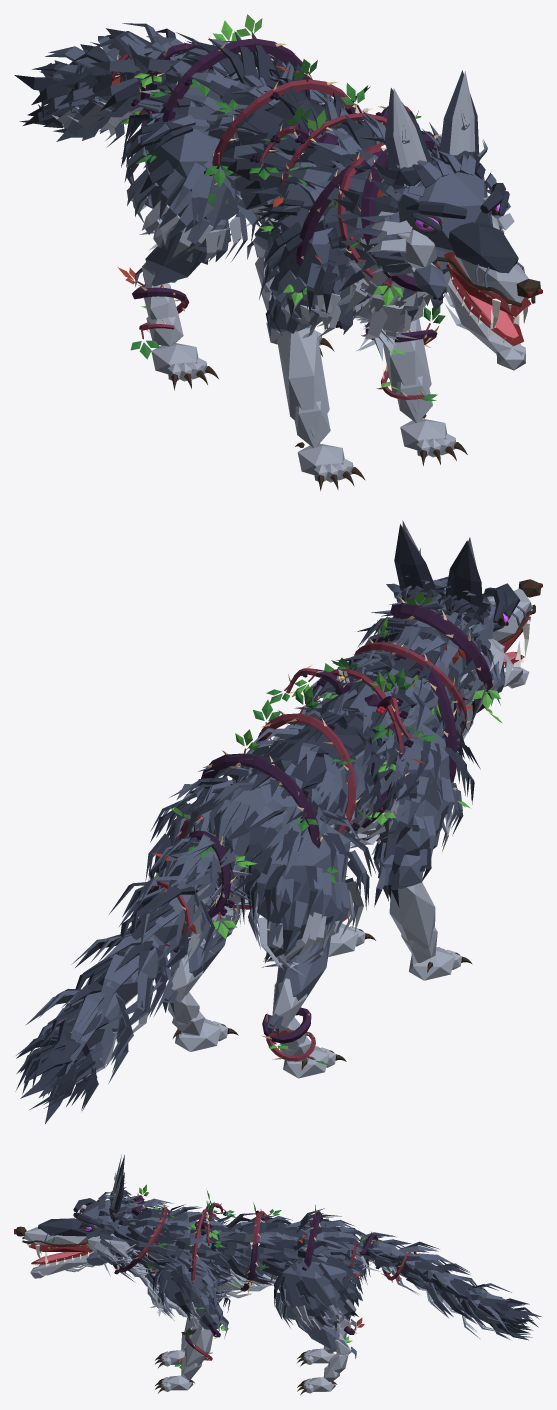
Rendered from Gardien_Foret_Loup.glb.
3 views of the same model, one above another, from view 1: azimuth 30°, elevation 25°; view 2: azimuth 150°, elevation 25°; view 3: azimuth 270°, elevation 25° (orthographic). The views are drawn at different scales.
Visible parts, largest first — view 1: Corps, Tete, Patte_ArD, Patte_AvD, Ronces, Queue, Patte_AvG, Machoire, Patte_ArG; view 2: Corps, Queue, Patte_ArD, Ronces, Patte_AvD, Tete, Patte_ArG, Patte_AvG; view 3: Corps, Queue, Patte_ArG, Tete, Patte_AvG, Ronces, Machoire, Patte_ArD, Patte_AvD.
Part boxes in pixels (x1,y1,x2,y2): Corps: (139, 31, 504, 360); Tete: (356, 70, 542, 331); Patte_ArD: (117, 73, 262, 390); Patte_AvD: (255, 181, 369, 490); Ronces: (136, 14, 443, 328); Queue: (14, 23, 210, 147); Patte_AvG: (361, 289, 467, 465); Machoire: (414, 263, 525, 370); Patte_ArG: (246, 60, 357, 356); Corps: (169, 599, 500, 914); Queue: (15, 830, 257, 1123); Patte_ArD: (230, 806, 375, 1078); Ronces: (152, 591, 502, 915); Patte_AvD: (367, 715, 480, 980); Tete: (377, 520, 542, 706); Patte_ArG: (145, 781, 246, 1051); Patte_AvG: (290, 694, 375, 956); Corps: (104, 1194, 371, 1317); Queue: (351, 1231, 541, 1340); Patte_ArG: (270, 1245, 367, 1395); Tete: (14, 1154, 143, 1266); Patte_AvG: (152, 1244, 229, 1393); Ronces: (112, 1184, 367, 1308); Machoire: (30, 1250, 107, 1278); Patte_ArD: (278, 1221, 364, 1366); Patte_AvD: (155, 1219, 230, 1367).
Bounding box in the file's own units: 6.83 × 13.04 × 28.98.
1 material, 1 textured.
